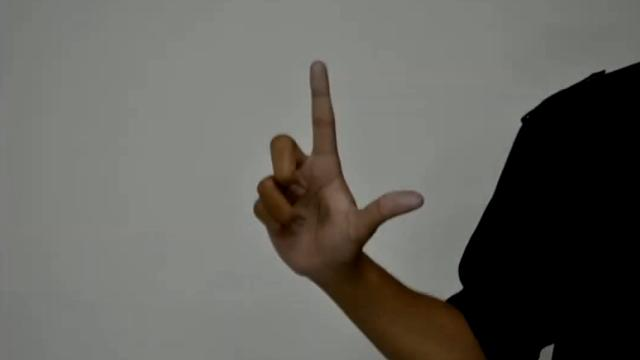L: (240, 56, 428, 284)
